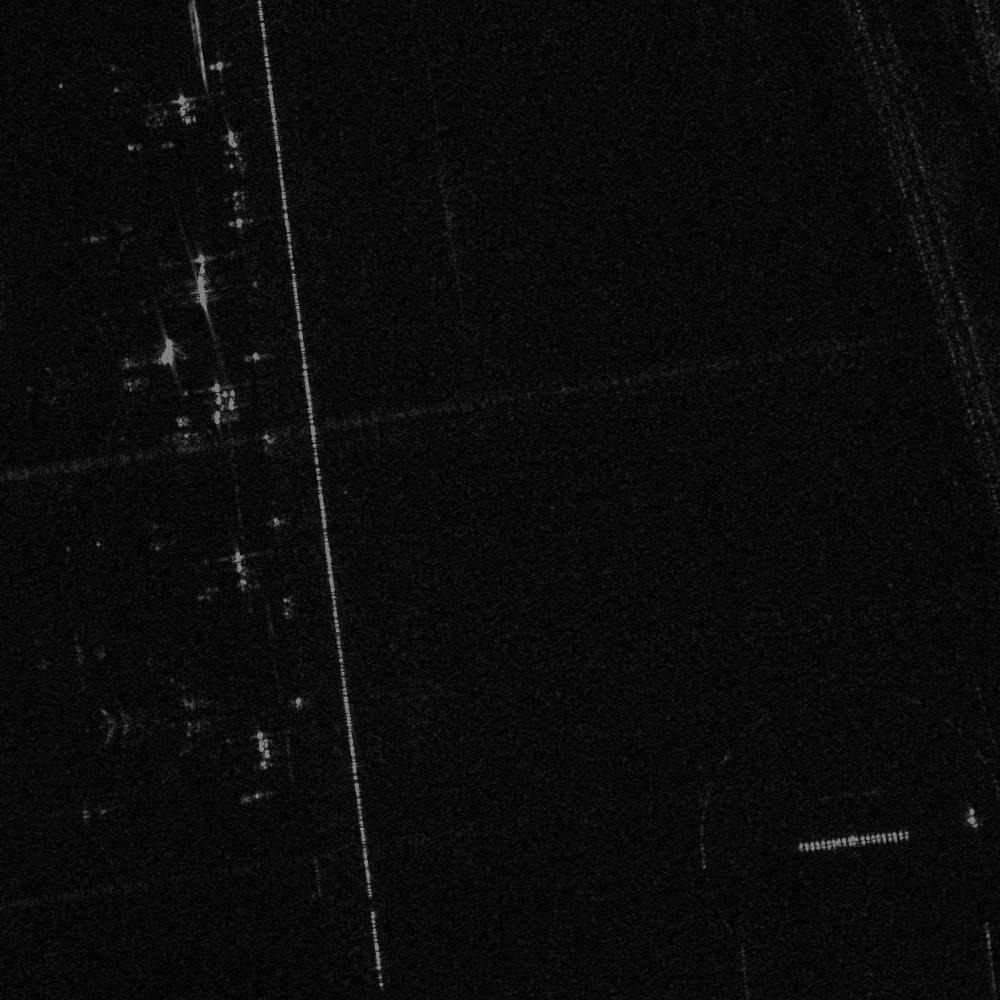A220: (62, 198, 150, 277)
A330: (45, 313, 158, 442)
Boeing787: (99, 653, 238, 782)
